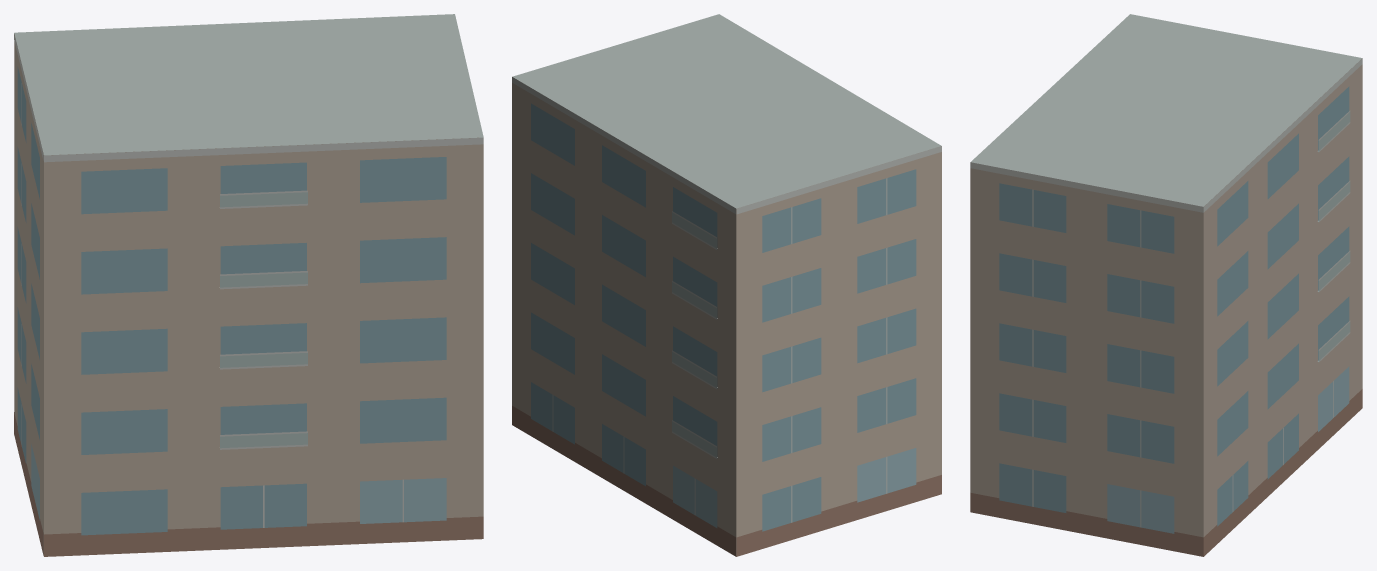
Rendered from survey-upis-32869406.glb.
3 renders of one model, left to right at view 1: azimuth 30°, elevation 25°; view 2: azimuth 150°, elevation 25°; view 3: azimuth 270°, elevation 25°, orthographic. The views are drawn at different scales.
Visible parts, largest first — view 1: survey-upis-32869406.tmp; view 2: survey-upis-32869406.tmp; view 3: survey-upis-32869406.tmp.
Boxes of the visible parts, x1=… form: survey-upis-32869406.tmp: x1=14, y1=14, x2=483, y2=556; survey-upis-32869406.tmp: x1=512, y1=14, x2=941, y2=556; survey-upis-32869406.tmp: x1=970, y1=14, x2=1362, y2=556.
Bounding box in the file's own units: 16.9 × 14.3 × 14.53.
